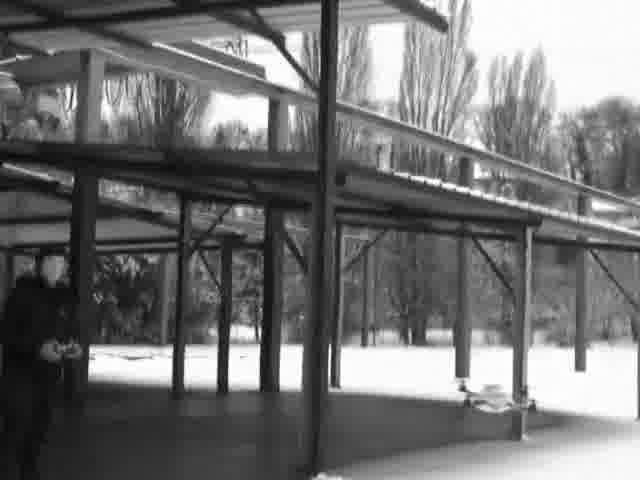drone: (451, 364, 549, 424)
